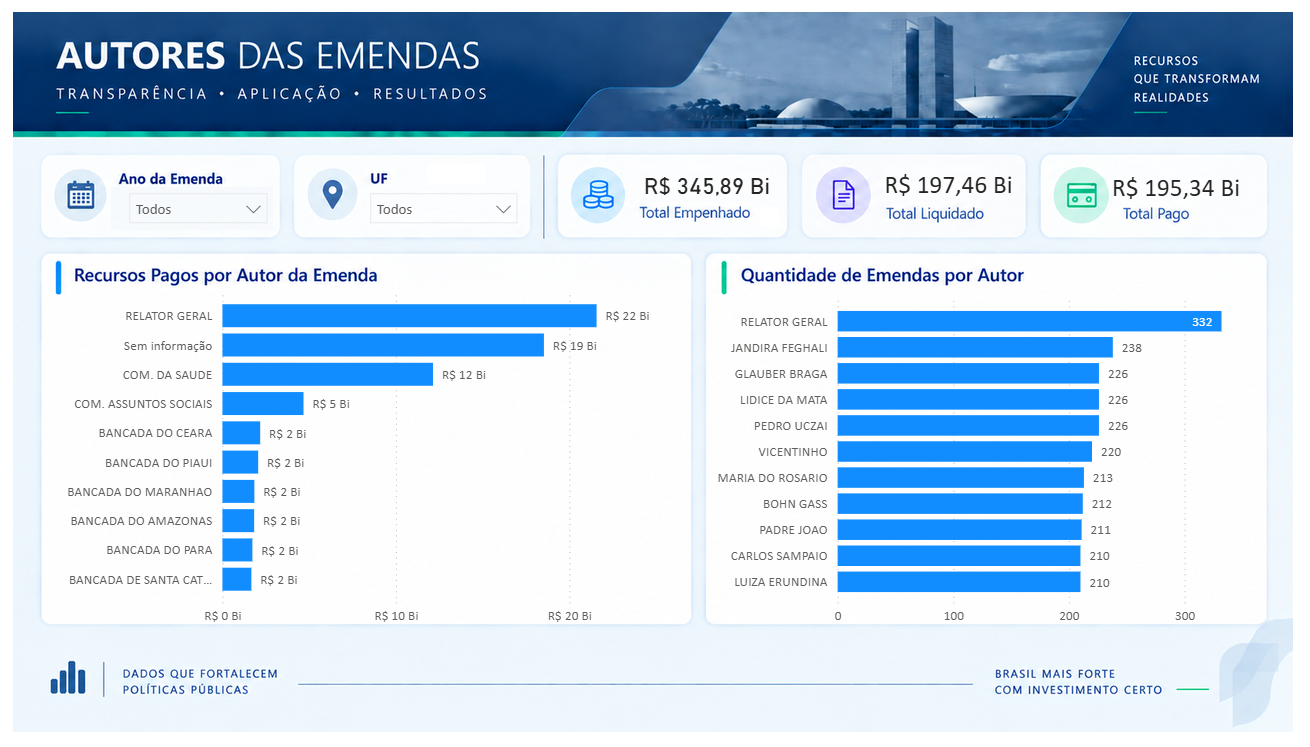

Layout of this report page (visuals, bound fields, positions):
{"tool":"powerbi","page":{"name":"Autores das Emendas","canvas":[1280,720],"ordinal":1},"visuals":[{"type":"slicer","fields":{"Values":["EmendasParlamentares.Ano da Emenda"]},"box":[176,192,144,48],"z":0},{"type":"card","fields":{"Values":["EmendasParlamentares.Total Liquidado"]},"box":[851.6,177.3,137,34],"z":1000},{"type":"slicer","fields":{"Values":["EmendasParlamentares.UF"]},"box":[392,192,152,48],"z":2000},{"type":"card","fields":{"Values":["EmendasParlamentares.Total Pago"]},"box":[1056,176,136,40],"z":3000},{"type":"barChart","fields":{"Category":["EmendasParlamentares.Nome do Autor da Emenda"],"Y":["EmendasParlamentares.Total Pago"]},"box":[111.9,277.6,579.4,317.9],"z":5000},{"type":"barChart","fields":{"Category":["EmendasParlamentares.Nome do Autor da Emenda"],"Y":["EmendasParlamentares.Quantidade de Emendas"]},"box":[703.9,284.8,501.5,310.7],"z":6000},{"type":"card","fields":{"Values":["EmendasParlamentares.Total Empenhado"]},"box":[640.3,180.9,127.2,28.7],"z":6001}]}

Visuals, with their boxes in screenshot pixels (x1, y1, x2, y2), scaled from the page's 1280x720 canvas onto the 1310x747 screenshot:
slicer - EmendasParlamentares.Ano da Emenda: (left=180, top=199, right=328, bottom=249)
card - EmendasParlamentares.Total Liquidado: (left=872, top=184, right=1012, bottom=219)
slicer - EmendasParlamentares.UF: (left=401, top=199, right=557, bottom=249)
card - EmendasParlamentares.Total Pago: (left=1081, top=183, right=1220, bottom=224)
barChart - EmendasParlamentares.Nome do Autor da Emenda x EmendasParlamentares.Total Pago: (left=115, top=288, right=708, bottom=618)
barChart - EmendasParlamentares.Nome do Autor da Emenda x EmendasParlamentares.Quantidade de Emendas: (left=720, top=295, right=1234, bottom=618)
card - EmendasParlamentares.Total Empenhado: (left=655, top=188, right=785, bottom=217)
